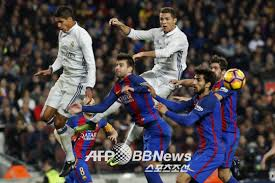barcelona: (99, 59, 172, 183), (181, 73, 225, 183), (210, 57, 240, 183), (66, 100, 97, 183)
realmadrid: (29, 10, 94, 170), (118, 14, 193, 101)
